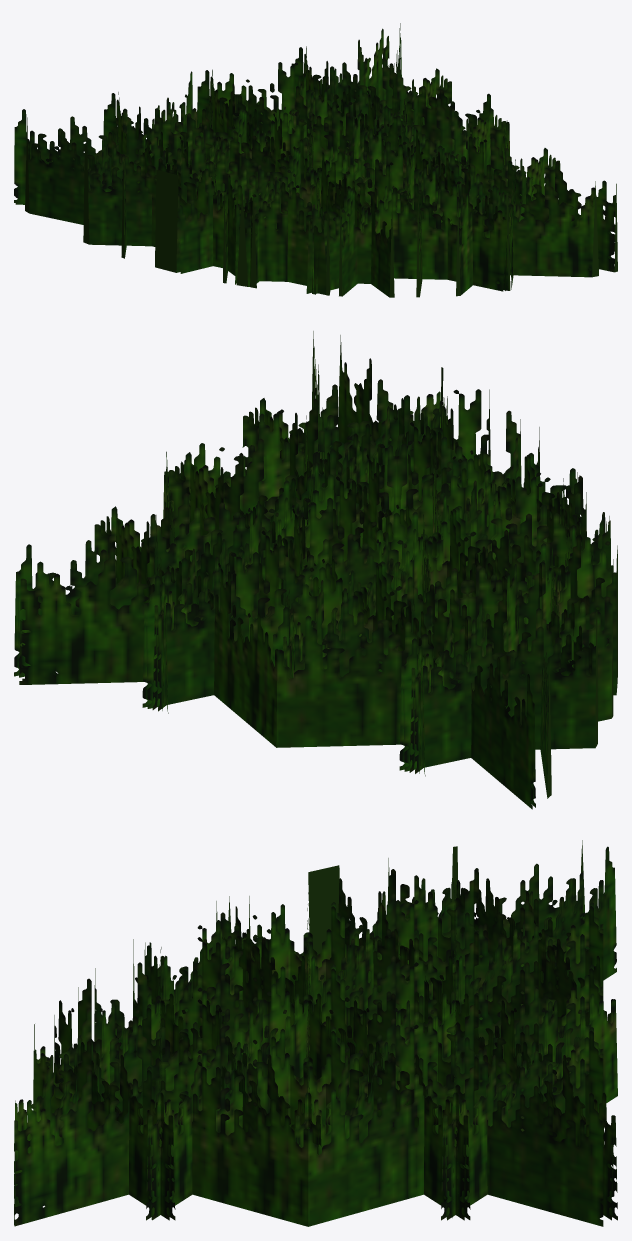
The model's file is courtyard_grass_patch_corner.glb.
The picture shows the model from 3 angles, top to bottom: view 1: azimuth 30°, elevation 25°; view 2: azimuth 150°, elevation 25°; view 3: azimuth 270°, elevation 25°; orthographic projection. The views are drawn at different scales.
Visible parts, largest first — view 1: grass_patch_corner; view 2: grass_patch_corner; view 3: grass_patch_corner.
Part boxes in pixels (left/top/right/bottom): grass_patch_corner: left=14, top=23, right=617, bottom=297; grass_patch_corner: left=14, top=331, right=617, bottom=809; grass_patch_corner: left=14, top=840, right=617, bottom=1226.
Size of the model in its own units: 2.05 by 0.5 by 2.05.
Materials: 1 (1 with a texture image).
